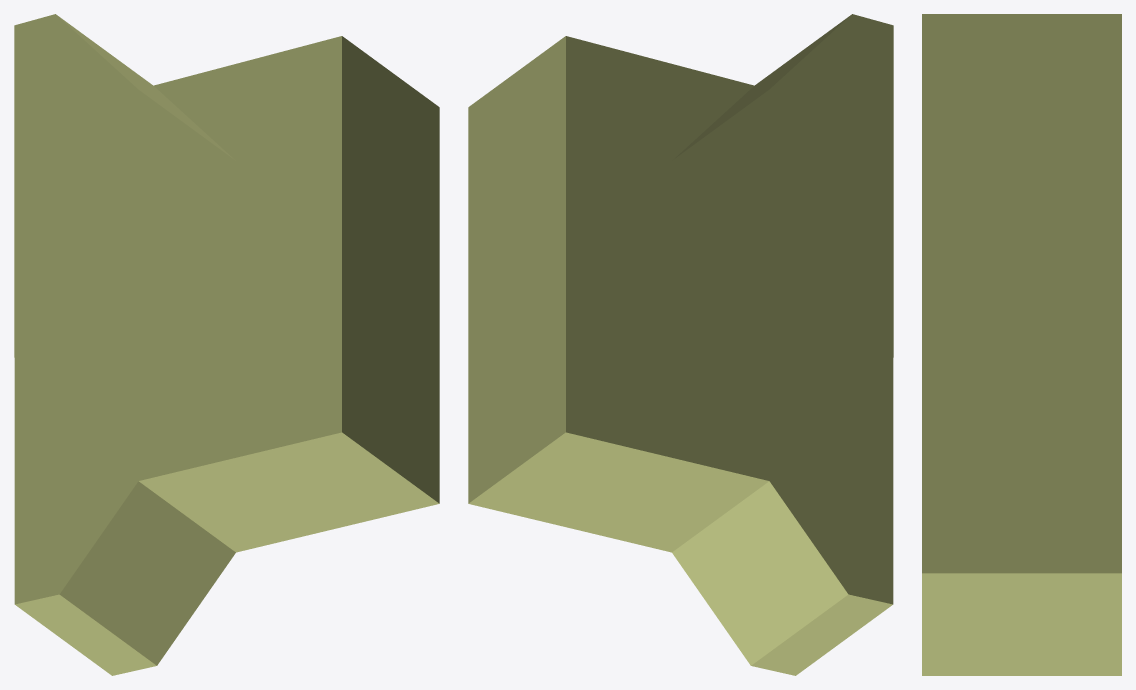
3 views of the same model, side by side, from view 1: azimuth 30°, elevation 25°; view 2: azimuth 150°, elevation 25°; view 3: azimuth 270°, elevation 25° (orthographic). The views are drawn at different scales.
Visible parts, largest first — view 1: 0_3_2_2_3_1_0_3_0_3; view 2: 0_3_2_2_3_1_0_3_0_3; view 3: 0_3_2_2_3_1_0_3_0_3.
Part boxes in pixels (x1,y1,x2,y2): 0_3_2_2_3_1_0_3_0_3: (14,14,439,675); 0_3_2_2_3_1_0_3_0_3: (468,14,893,675); 0_3_2_2_3_1_0_3_0_3: (922,14,1121,675).
Size of the model in its own units: 11.63 by 19.72 by 6.
